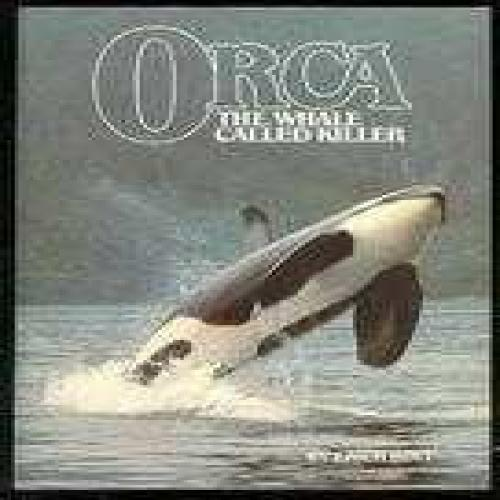killer_whale-endangered: (118, 173, 467, 411)
